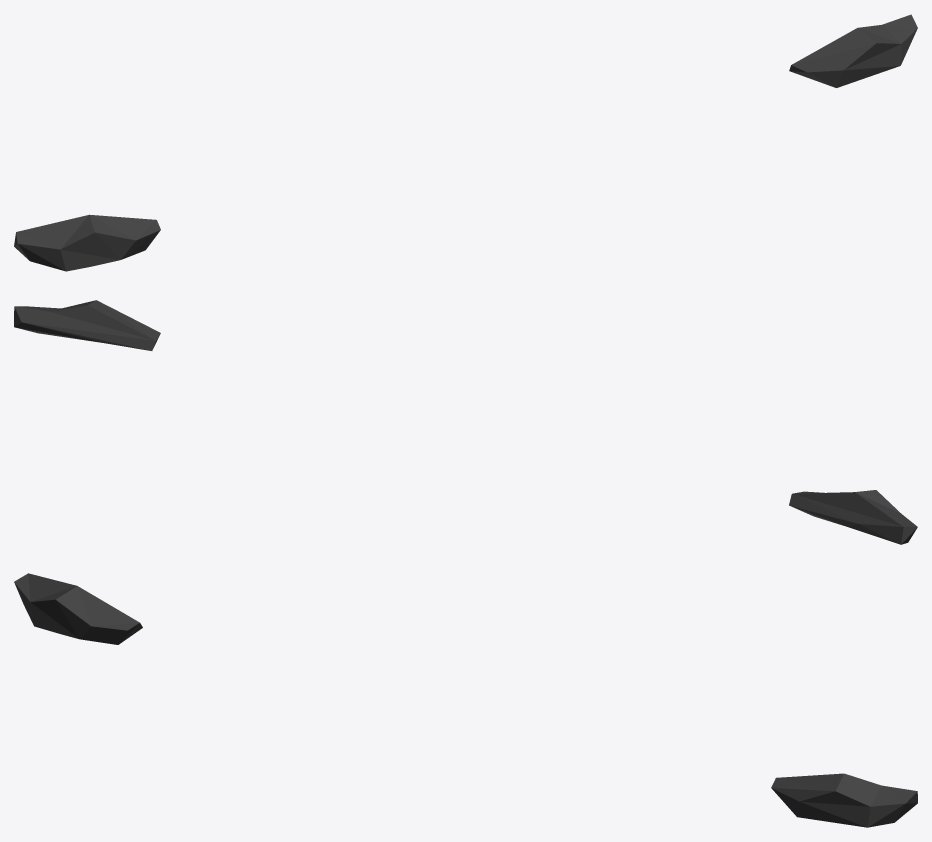
The model's file is skel_HL_navicular_bone.glb.
The picture shows the model from 3 angles, top to bottom: view 1: azimuth 30°, elevation 25°; view 2: azimuth 150°, elevation 25°; view 3: azimuth 330°, elevation 25°; orthographic projection.
Visible parts, largest first — view 1: skel_HL_navicular_bone; view 2: skel_HL_navicular_bone; view 3: skel_HL_navicular_bone.
Part boxes in pixels (bbox=[...]): skel_HL_navicular_bone: bbox=[14, 14, 917, 271]; skel_HL_navicular_bone: bbox=[14, 300, 917, 544]; skel_HL_navicular_bone: bbox=[14, 573, 917, 827].
Size of the model in its own units: 0.00597 by 0.000271 by 0.000364.
Materials: 1 (1 with a texture image).
